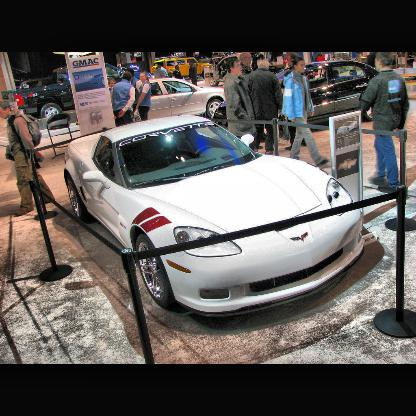Chevrolet Corvette Ron Fellows Edition Z06 2007: (61, 114, 368, 319)
